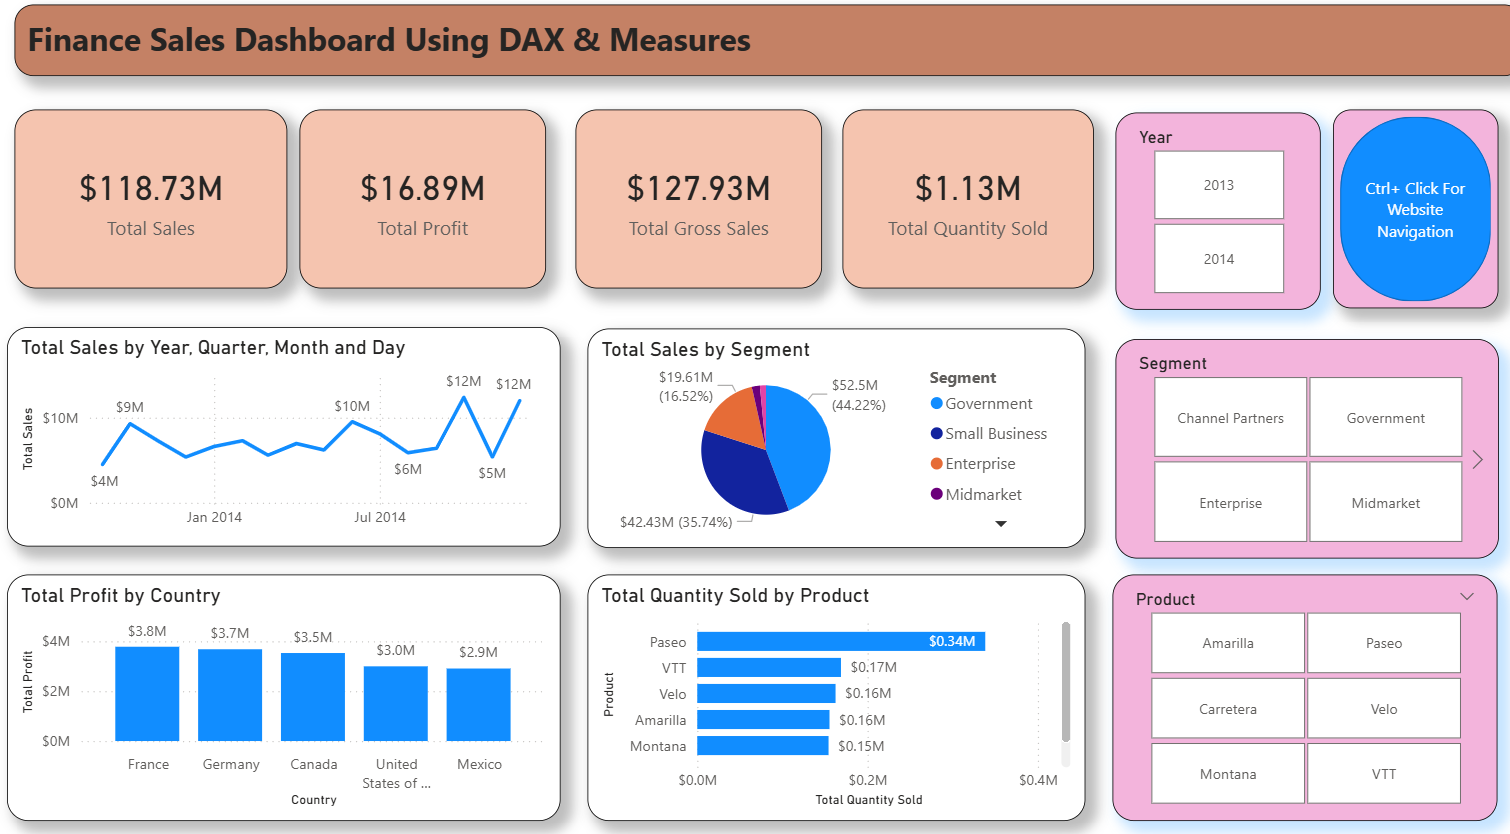

What the dashboard file says about the page in this screenshot:
{"tool":"powerbi","page":{"name":"Financial Dashboard","canvas":[1280,720],"ordinal":0},"visuals":[{"type":"card","fields":{"Values":["financials.Total Sales"]},"box":[9.5,100.8,222.1,149.6],"z":0},{"type":"card","fields":{"Values":["financials.Total Profit"]},"box":[255.2,100.8,217.4,149.6],"z":1000},{"type":"card","fields":{"Values":["financials.Total Gross Sales"]},"box":[496.2,100.8,195.3,149.6],"z":2000},{"type":"card","fields":{"Values":["financials.Total Quantity Sold"]},"box":[710.4,100.8,203.2,149.6],"z":3000},{"type":"lineChart","fields":{"Category":["financials.Date.Variation.Date Hierarchy.Year","financials.Date.Variation.Date Hierarchy.Quarter","financials.Date.Variation.Date Hierarchy.Month","financials.Date.Variation.Date Hierarchy.Day"],"Y":["financials.Total Sales"]},"box":[10.1,283.5,463.8,184.3],"z":4000},{"type":"pieChart","fields":{"Category":["financials.Segment"],"Y":["financials.Total Sales"]},"box":[496.2,285.6,417.2,184.3],"z":5000},{"type":"clusteredColumnChart","fields":{"Category":["financials.Country"],"Y":["financials.Total Profit"]},"box":[10.1,492.2,463.8,206.6],"z":6000},{"type":"slicer","fields":{"Values":["financials.Date.Variation.Date Hierarchy.Year"]},"box":[938.7,105.5,171.7,165.4],"z":7000},{"type":"slicer","fields":{"Values":["financials.Segment"]},"box":[938.7,294.5,321.3,184.3],"z":8000},{"type":"clusteredBarChart","fields":{"Category":["financials.Product"],"Y":["financials.Total Quantity Sold"]},"box":[496.2,492.2,417.2,206.6],"z":9000},{"type":"slicer","fields":{"Values":["financials.Product"]},"box":[938.7,491.4,321.3,206.3],"z":10000},{"type":"shape","box":[1121.5,105.5,138.6,165.4],"z":11000},{"type":"textbox","box":[16.2,0,1247.6,83],"z":12500}]}

Visuals, with their boxes in screenshot pixels (x1, y1, x2, y2), scaled from the page's 1280x720 canvas onto the 1510x834 screenshot:
card - financials.Total Sales: 11,117,273,290
card - financials.Total Profit: 301,117,558,290
card - financials.Total Gross Sales: 585,117,816,290
card - financials.Total Quantity Sold: 838,117,1078,290
lineChart - financials.Date.Variation.Date Hierarchy.Year x financials.Date.Variation.Date Hierarchy.Quarter: 12,328,559,542
pieChart - financials.Segment x financials.Total Sales: 585,331,1078,544
clusteredColumnChart - financials.Country x financials.Total Profit: 12,570,559,809
slicer - financials.Date.Variation.Date Hierarchy.Year: 1107,122,1310,314
slicer - financials.Segment: 1107,341,1486,555
clusteredBarChart - financials.Product x financials.Total Quantity Sold: 585,570,1078,809
slicer - financials.Product: 1107,569,1486,808
shape: 1323,122,1487,314
textbox: 19,0,1491,96
